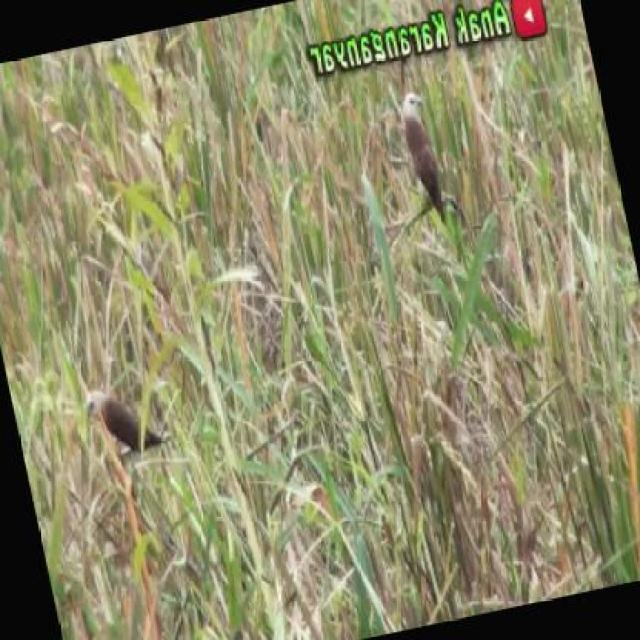Bird: (385, 85, 459, 235), (72, 375, 178, 466)
